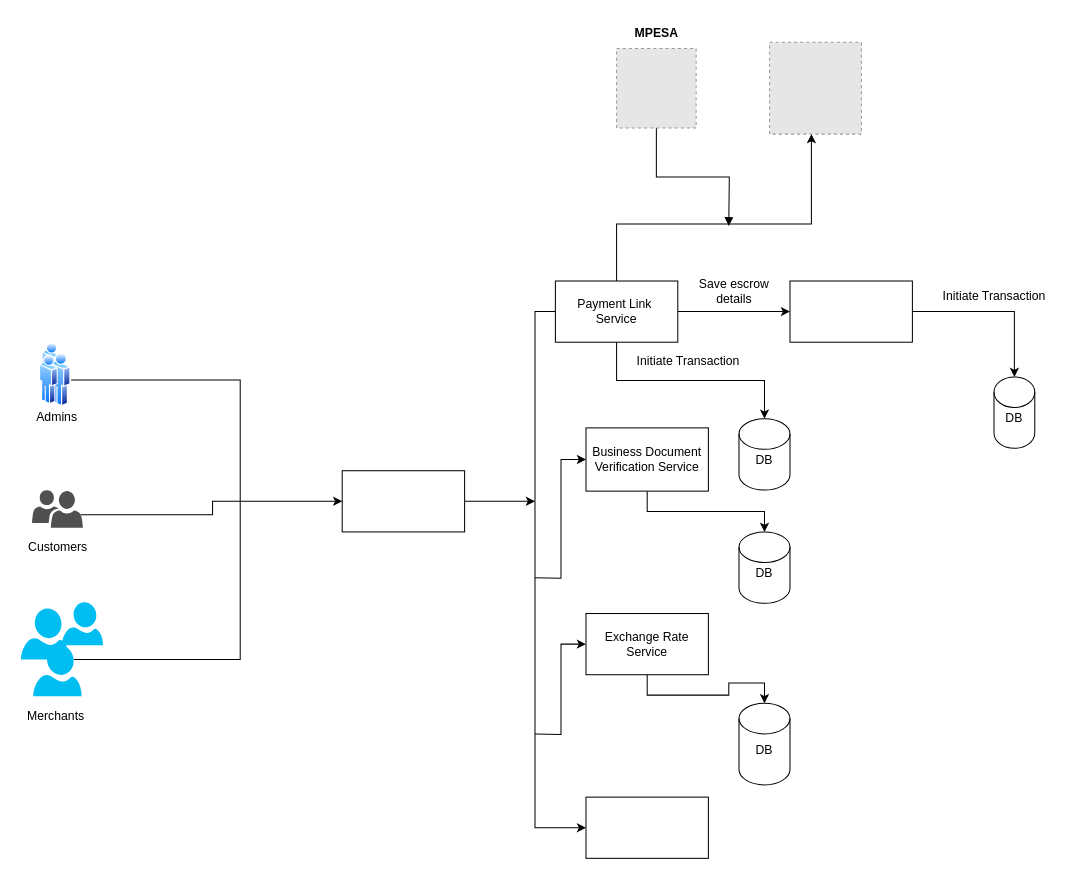
Some shapes in this 1073 by 876 pixel diagram are drawn without their labels. Grey dashed boxes stand in for pictures. The shapes that lost their labels are listed below. From the top down, each one's box as (x1, y1, x2, y2) in pixels, then its label:
(789, 280, 912, 342): Escrow Service
(341, 470, 465, 532): WEB
(585, 796, 708, 858): Reserve Settlement Service
